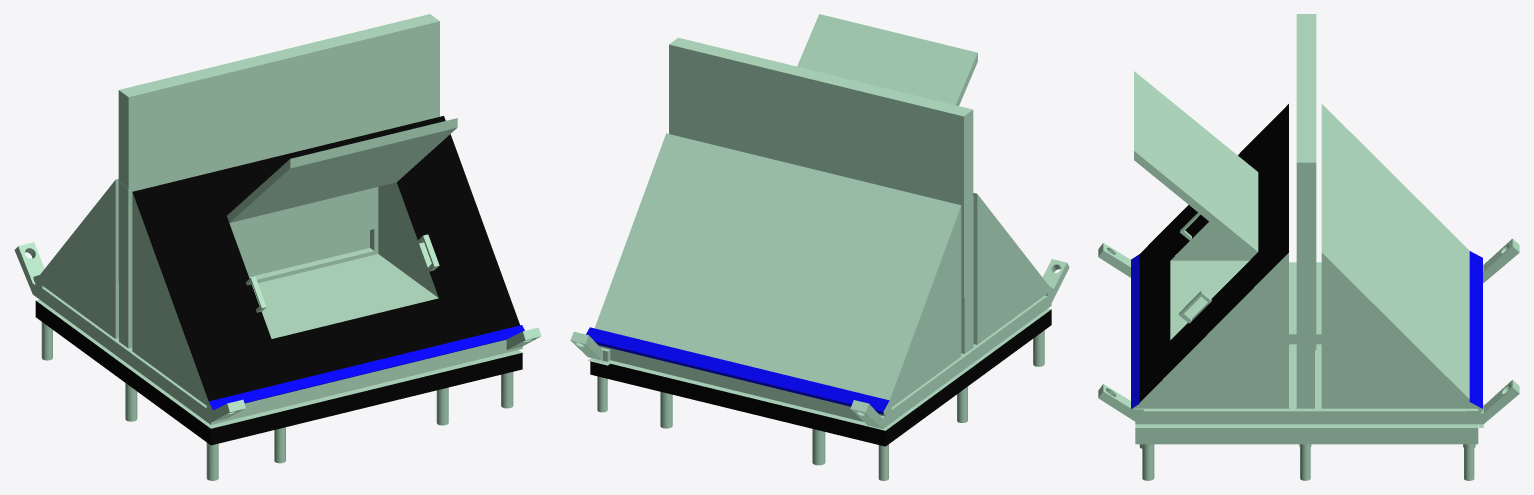
File: SHRI_KENDRIYA_VIDYALAYA_ADOOR.glb
The picture shows the model from 3 angles, left to right: view 1: azimuth 30°, elevation 25°; view 2: azimuth 150°, elevation 25°; view 3: azimuth 270°, elevation 25°; orthographic projection. The views are drawn at different scales.
Visible parts, largest first — view 1: Mesh_0; view 2: Mesh_0; view 3: Mesh_0.
Part boxes in pixels (x1=…): Mesh_0: x1=14, y1=14, x2=541, y2=480; Mesh_0: x1=570, y1=14, x2=1069, y2=480; Mesh_0: x1=1098, y1=14, x2=1519, y2=480.
Bounding box in the file's own units: 0.4158 × 0.4104 × 0.4901.
